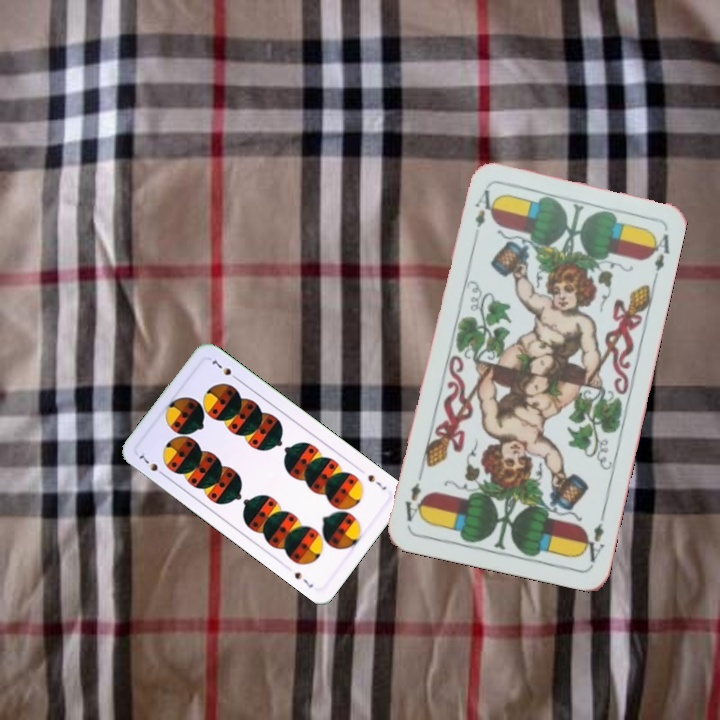EA: (578, 508, 608, 565), (469, 185, 493, 244)
S7: (135, 448, 168, 479), (364, 470, 389, 493)
